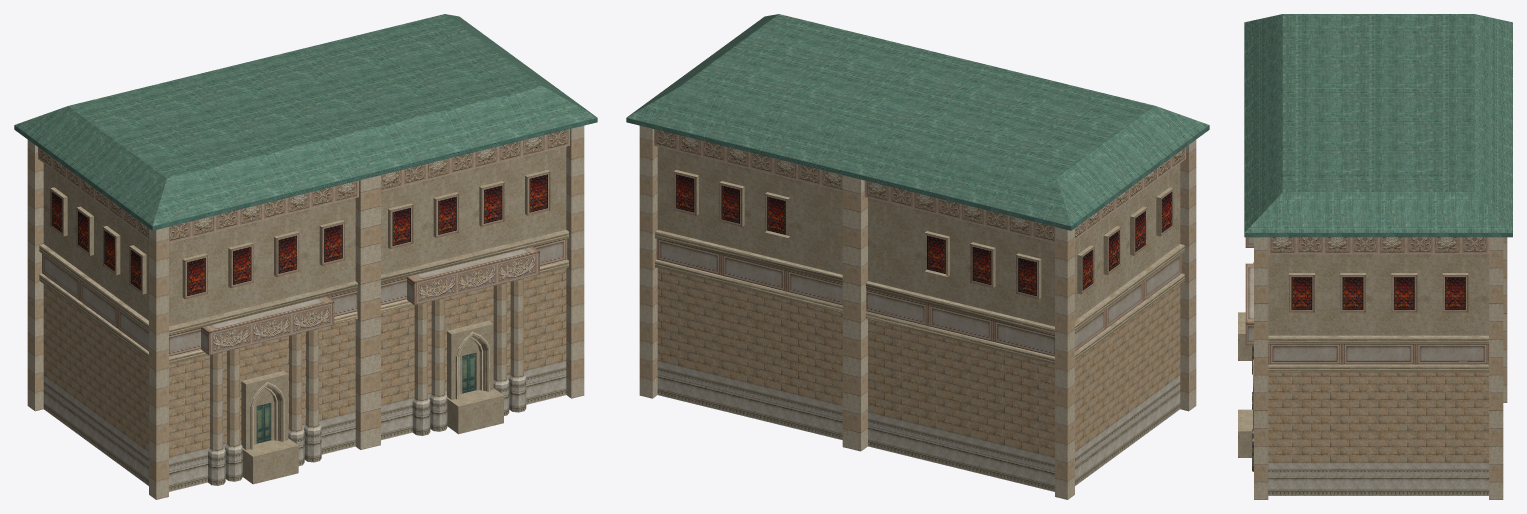
The model's file is thm_nboo_thed_imprv_building_s10_l0.fbx.
3 renders of one model, left to right at view 1: azimuth 30°, elevation 25°; view 2: azimuth 150°, elevation 25°; view 3: azimuth 270°, elevation 25°, orthographic. The views are drawn at different scales.
Parts seen in each view (by area): view 1: mesh_node; view 2: mesh_node; view 3: mesh_node.
Part boxes in pixels (x1,y1,x2,y2): mesh_node: (14,14,597,499); mesh_node: (626,14,1209,499); mesh_node: (1238,14,1512,499).
Bounding box in the file's own units: 38.99 × 25.5 × 21.5.
